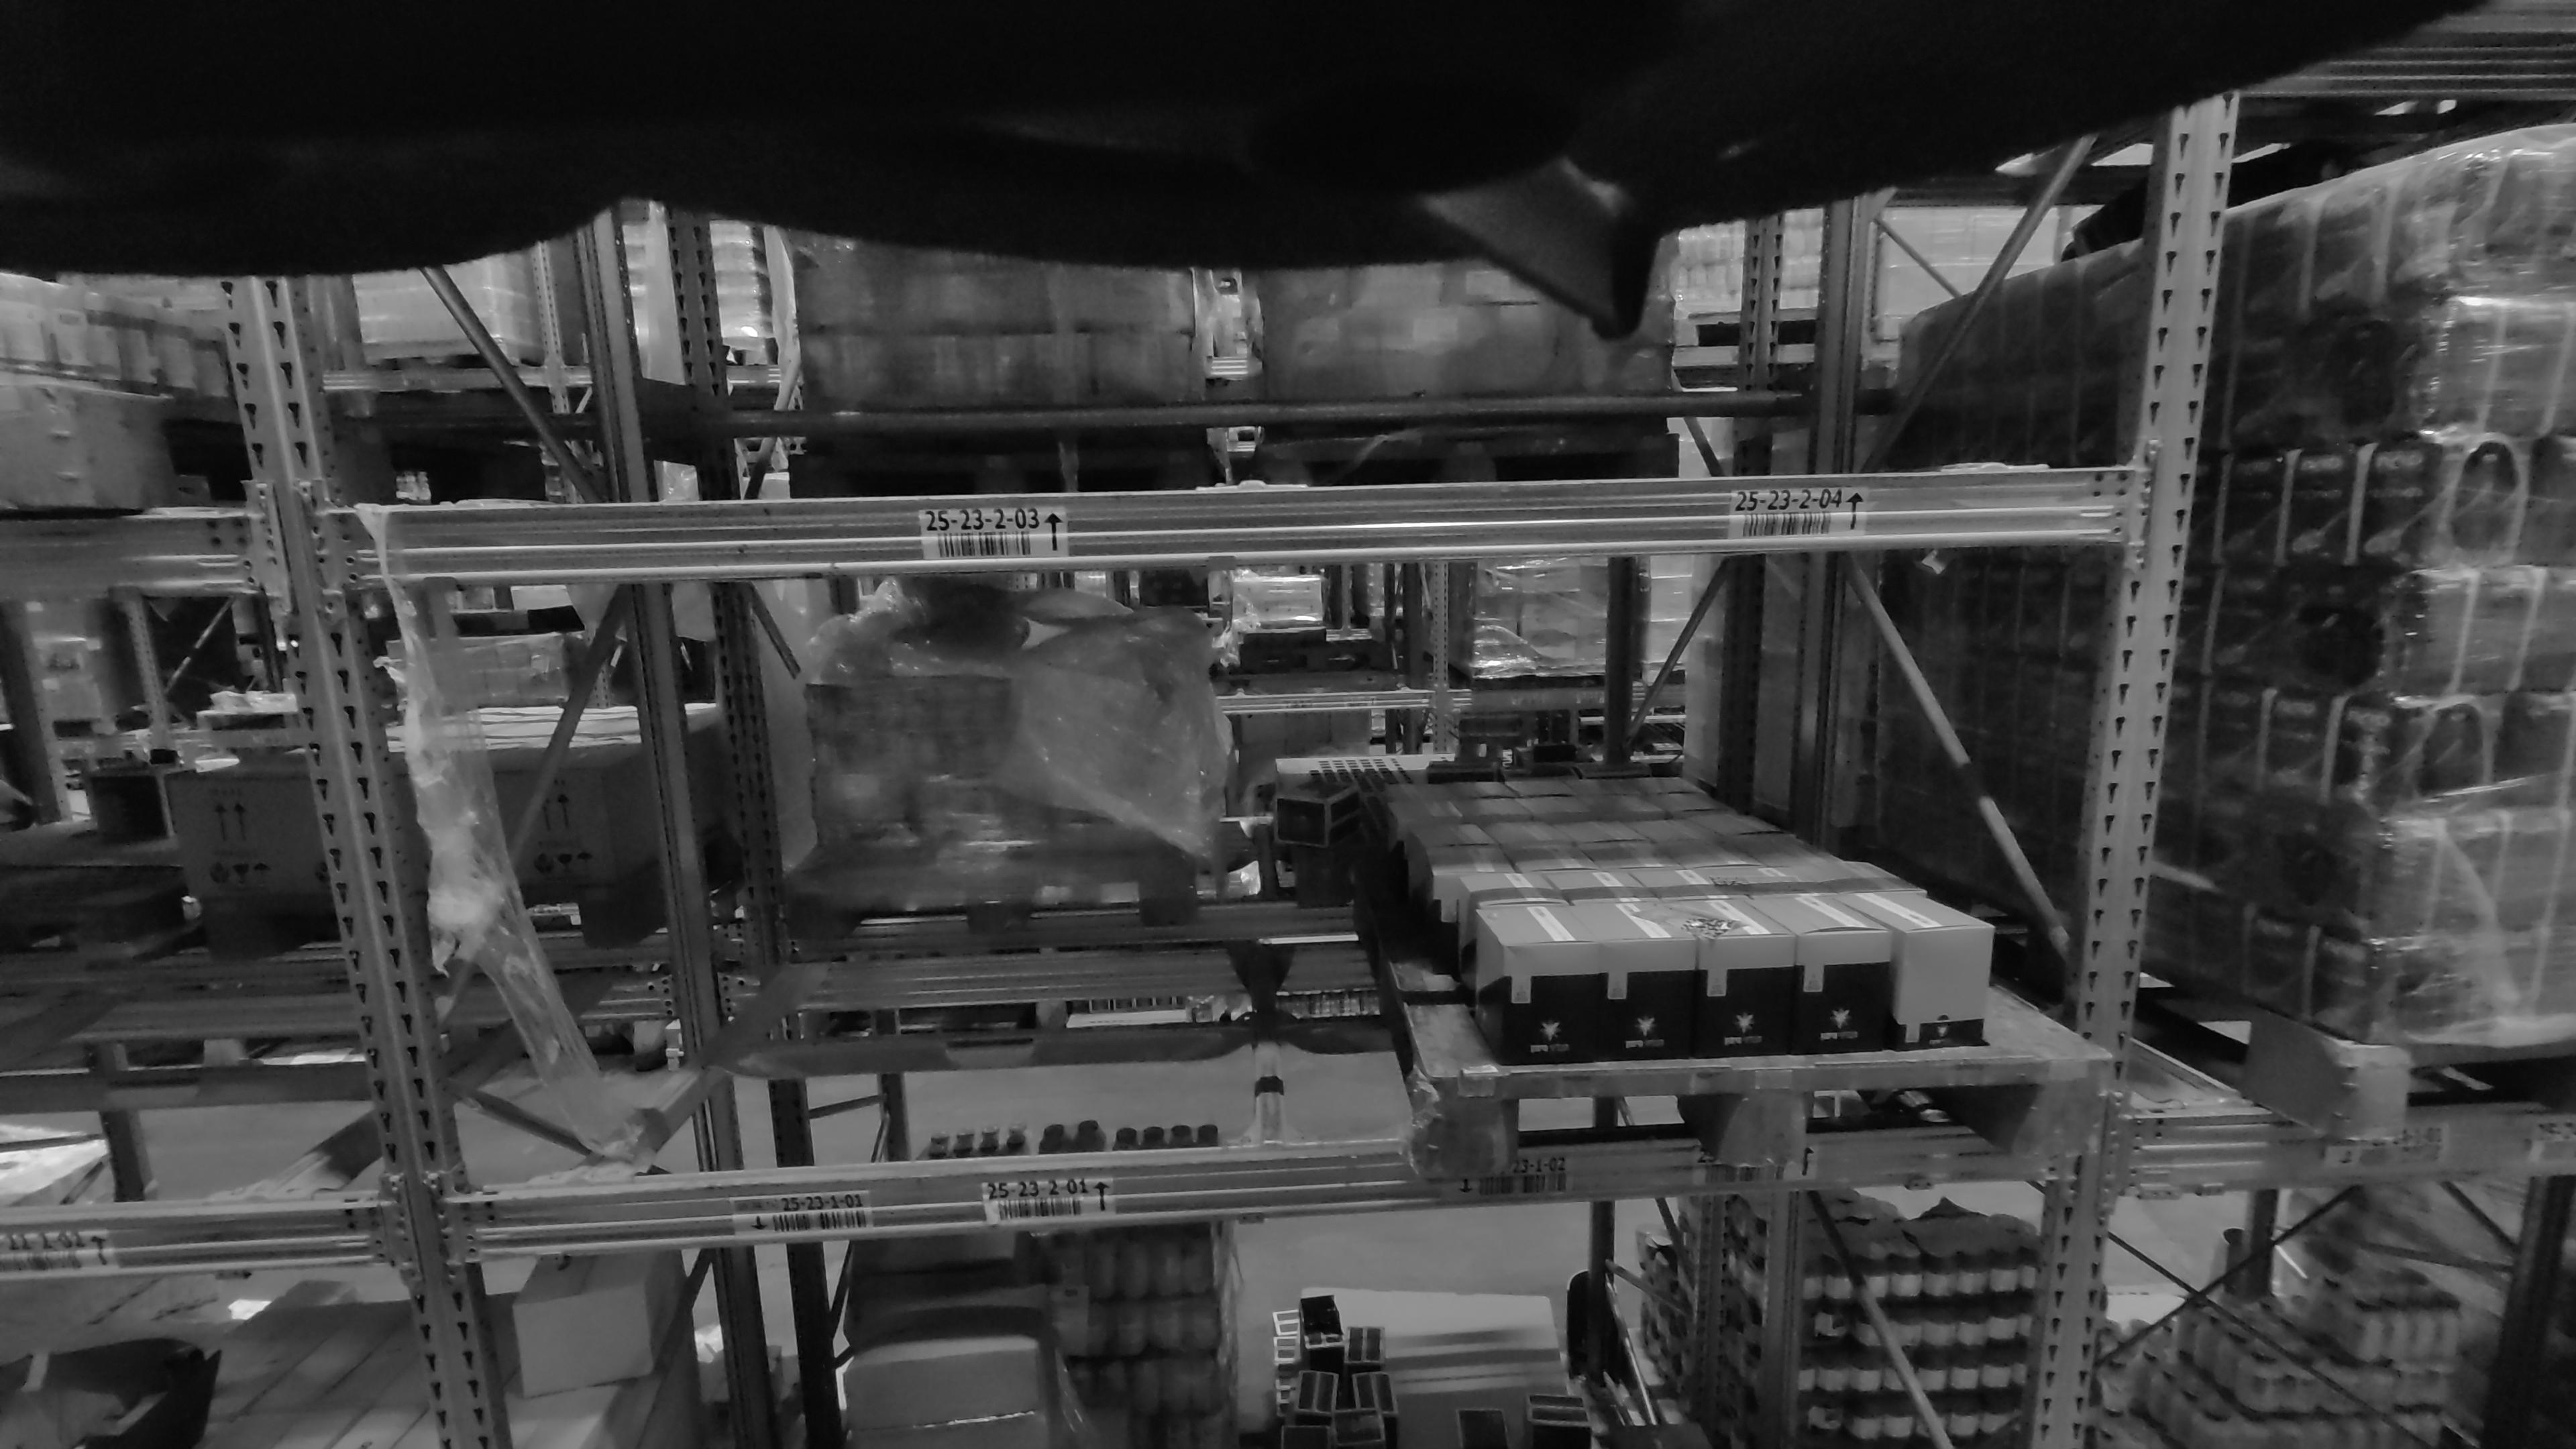empty-shelf: (517, 596, 1265, 1162), (0, 612, 350, 1201), (435, 221, 1217, 478), (1269, 251, 2075, 474)
